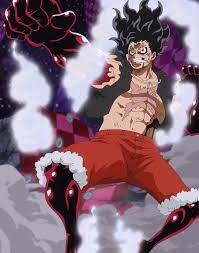Luffy: (119, 28, 162, 72)
